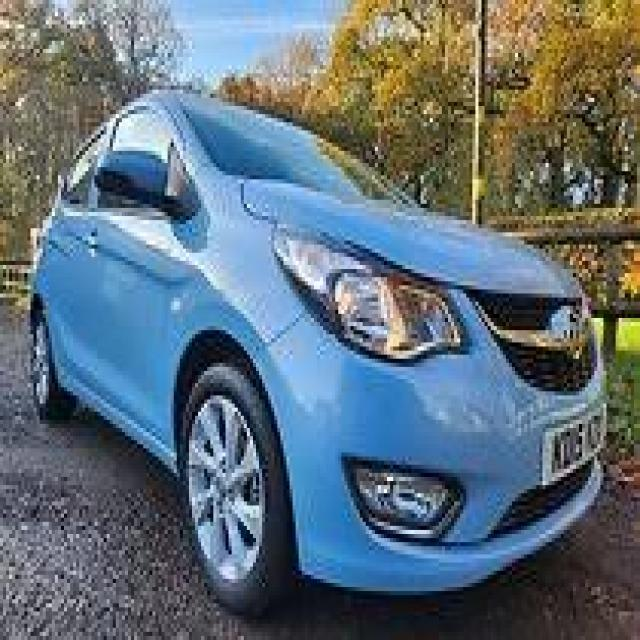minor: (228, 167, 340, 298)
